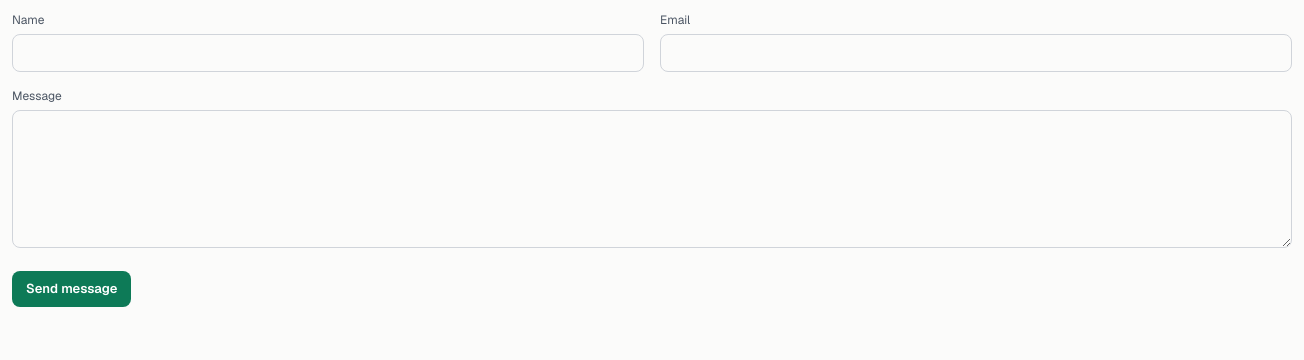
Test: ContactForm › asks the visitor to wait when Turnstile has no token yet
In the field labelled "Name": (328, 53) top-left (12, 34), bottom-right (644, 72), type "Ada"
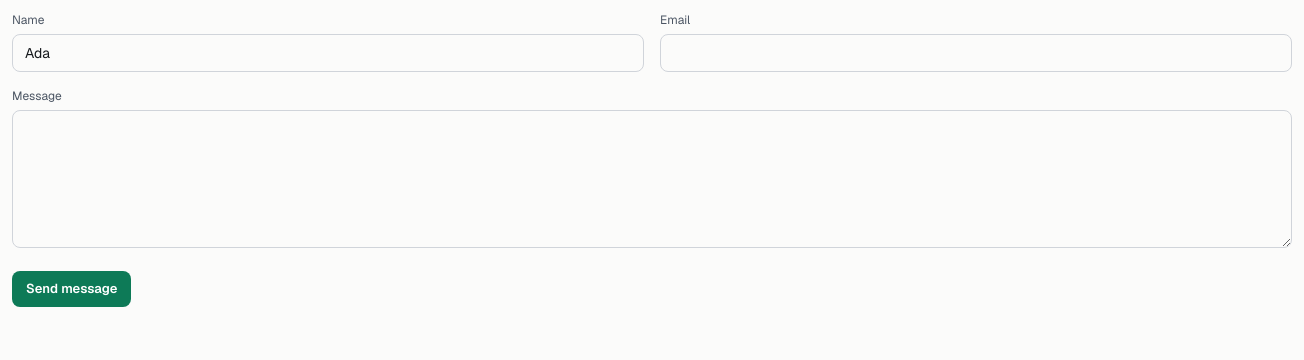
In the field labelled "Email": (976, 53) top-left (660, 34), bottom-right (1292, 72), type "ada@example.com"
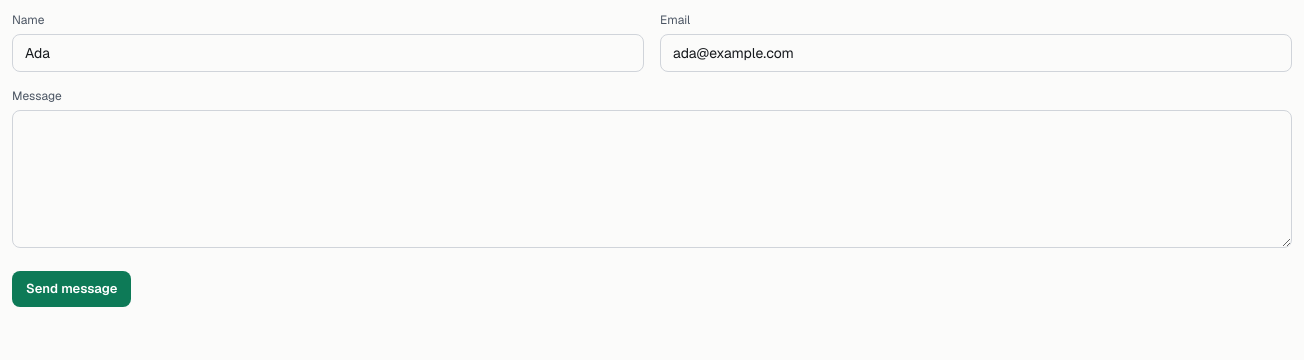
In the text box labelled "Message": (652, 179) top-left (12, 110), bottom-right (1292, 248), type "Hello there, Chris!"
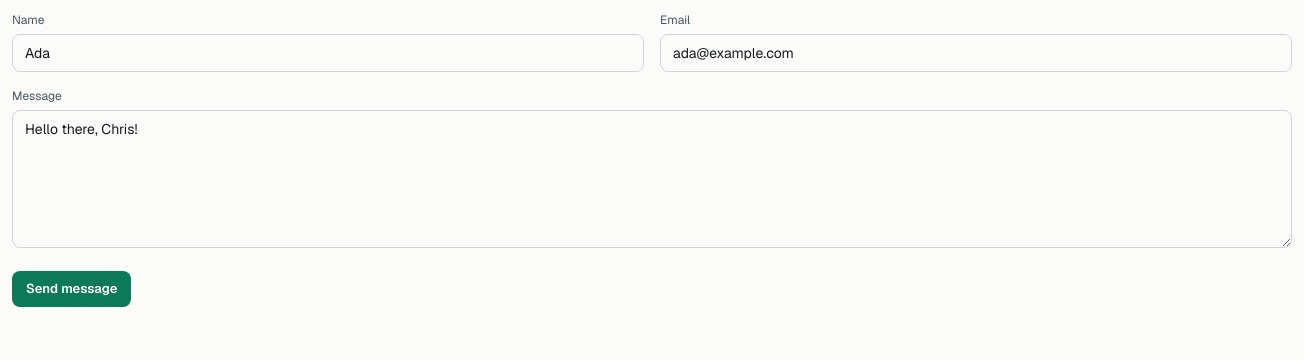
Click the button "Send message": click(72, 289) top-left (12, 271), bottom-right (131, 306)
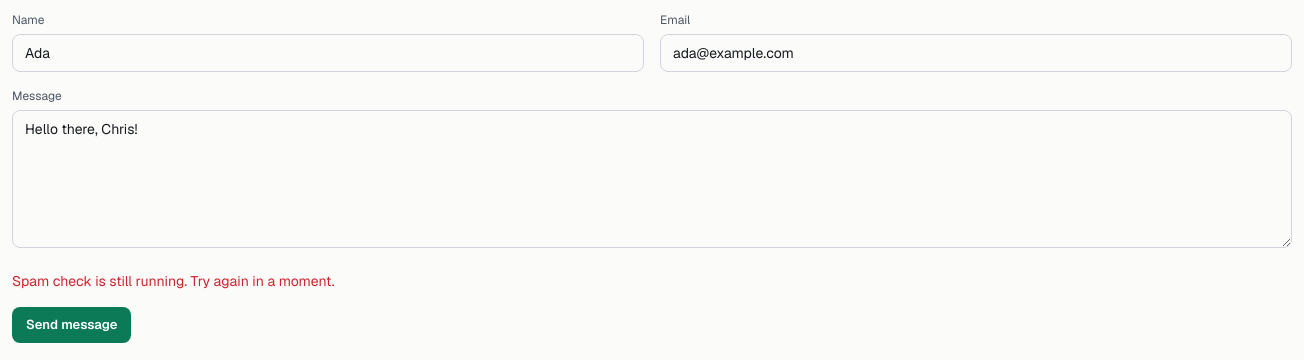
Check: the message reads "Spam check is still running. Try again in a moment.", box top-left (12, 272), bottom-right (335, 290)
